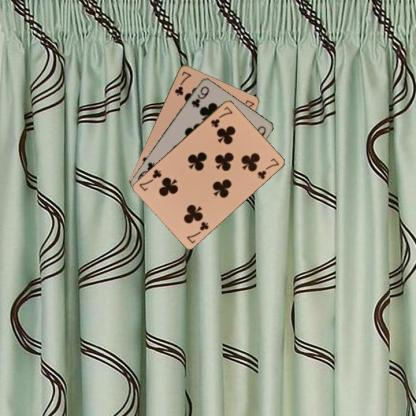7c: (208, 103, 234, 129), (184, 218, 210, 244), (172, 68, 192, 96)
9c: (188, 83, 210, 109)
